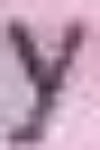U_RUS: (0, 0, 99, 149)
